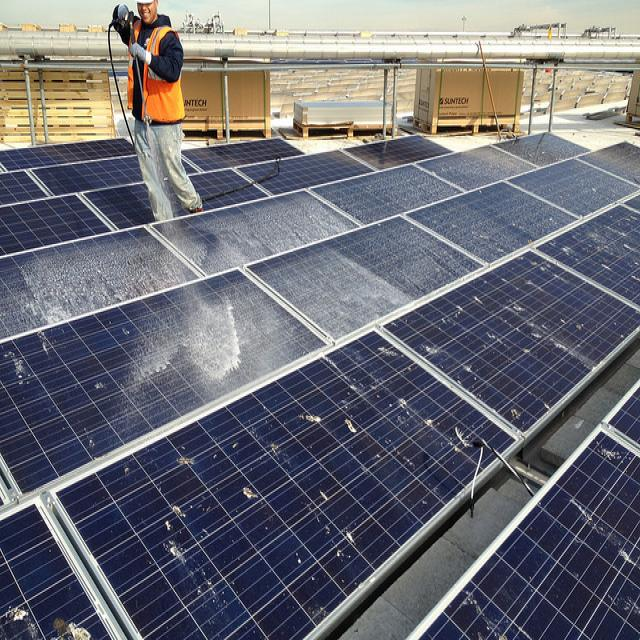dust-solar-panel: (0, 133, 640, 638)
